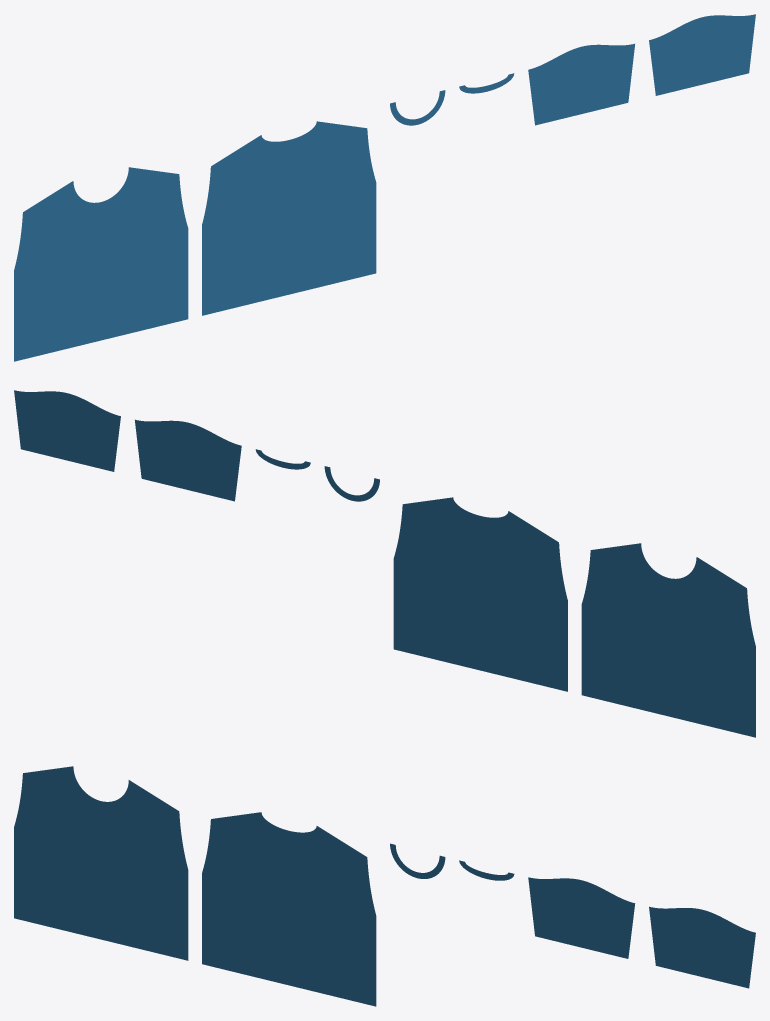
File: camiseta-corta-boxy-algodon-talla-L.glb
3 renders of one model, top to bottom at view 1: azimuth 30°, elevation 25°; view 2: azimuth 150°, elevation 25°; view 3: azimuth 330°, elevation 25°, orthographic.
Parts seen in each view (by area): view 1: patron-espalda, patron-delantero, patron-manga-der, patron-manga-izq; view 2: patron-espalda, patron-delantero, patron-manga-der, patron-manga-izq; view 3: patron-espalda, patron-delantero, patron-manga-izq, patron-manga-der, patron-cuello-delantero.
Part boxes in pixels (box(x1,y1,x2,y2)): patron-espalda: box(202, 121, 376, 315); patron-delantero: box(14, 167, 188, 361); patron-manga-der: box(649, 14, 755, 95); patron-manga-izq: box(528, 43, 634, 125); patron-espalda: box(393, 497, 567, 691); patron-delantero: box(581, 543, 755, 737); patron-manga-der: box(14, 390, 120, 471); patron-manga-izq: box(135, 419, 241, 501); patron-espalda: box(202, 812, 376, 1006); patron-delantero: box(14, 766, 188, 960); patron-manga-izq: box(528, 877, 635, 958); patron-manga-der: box(649, 906, 755, 988); patron-cuello-delantero: box(390, 843, 445, 878).
Bounding box in the file's own units: 2.7 × 0.615 × 0.
